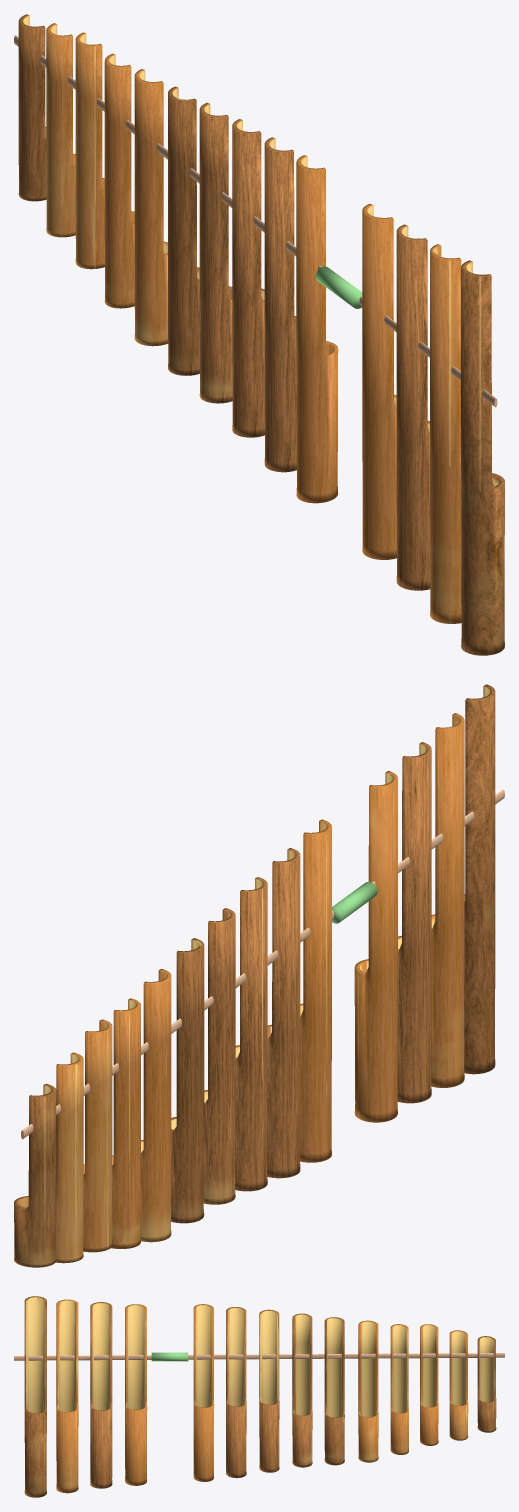
The model's file is calung.fbx.
The picture shows the model from 3 angles, top to bottom: view 1: azimuth 30°, elevation 25°; view 2: azimuth 150°, elevation 25°; view 3: azimuth 270°, elevation 25°; orthographic projection. The views are drawn at different scales.
Visible parts, largest first — view 1: Cylinder, Cylinder.001; view 2: Cylinder, Cylinder.001; view 3: Cylinder, Cylinder.001.
Boxes of the visible parts, x1=… form: Cylinder: x1=14, y1=14, x2=504, y2=655; Cylinder.001: x1=315, y1=266, x2=362, y2=308; Cylinder: x1=14, y1=684, x2=504, y2=1267; Cylinder.001: x1=332, y1=881, x2=377, y2=923; Cylinder: x1=14, y1=1296, x2=504, y2=1497; Cylinder.001: x1=151, y1=1352, x2=188, y2=1361.
Size of the model in its own units: 81.54 by 777 by 1801.
16 materials, 16 textured.
